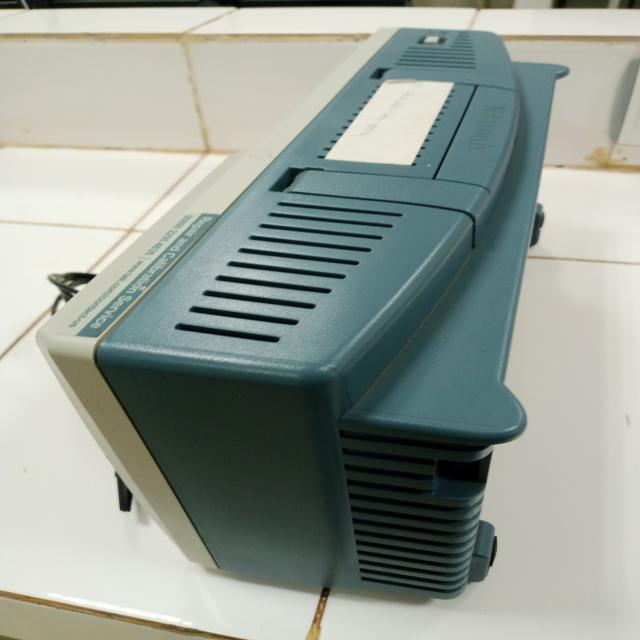Digital Oscilloscope: (20, 9, 570, 589)
